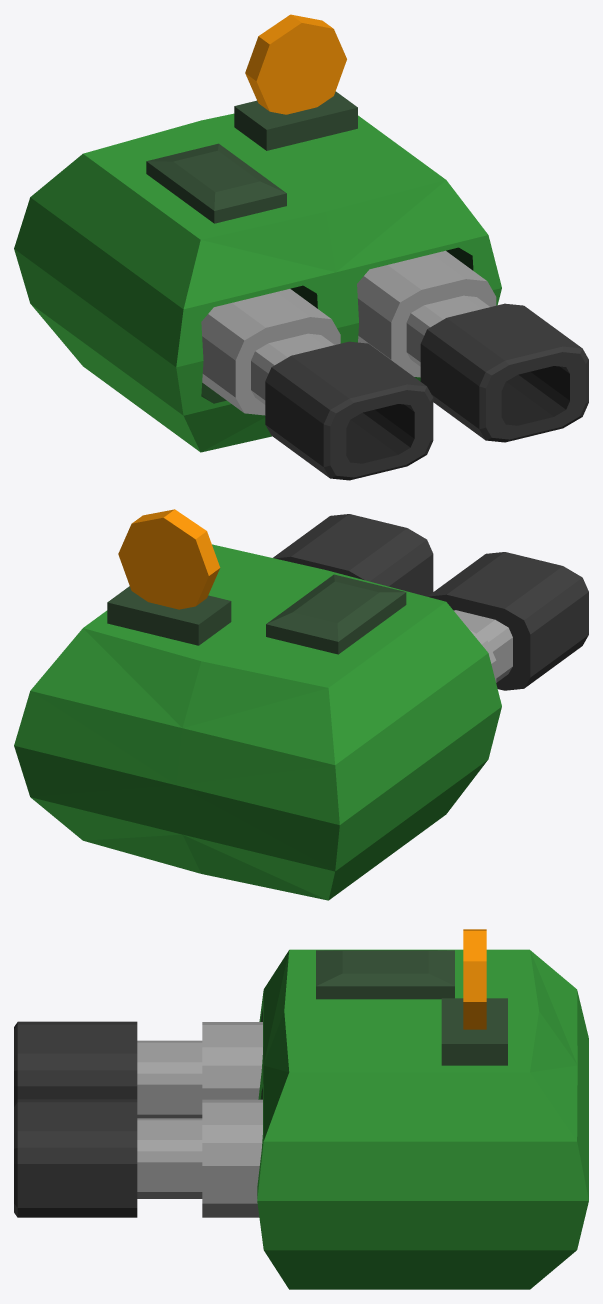
File: two_cannons.fbx
3 renders of one model, top to bottom at view 1: azimuth 30°, elevation 25°; view 2: azimuth 150°, elevation 25°; view 3: azimuth 270°, elevation 25°, orthographic. The views are drawn at different scales.
Visible parts, largest first — view 1: Cube, Cube.003, Cylinder, Cube.005; view 2: Cube, Cube.003, Cylinder, Cube.005; view 3: Cube, Cube.003, Cube.005, Cylinder.
Part boxes in pixels (left/top/right/bottom): Cube: left=14, top=113, right=501, bottom=452; Cube.003: left=201, top=250, right=588, bottom=480; Cylinder: left=234, top=14, right=357, bottom=150; Cube.005: left=146, top=143, right=286, bottom=223; Cube: left=14, top=544, right=501, bottom=900; Cube.003: left=273, top=514, right=588, bottom=690; Cylinder: left=107, top=509, right=231, bottom=645; Cube.005: left=266, top=574, right=406, bottom=654; Cube: left=257, top=949, right=588, bottom=1289; Cube.003: left=14, top=1021, right=262, bottom=1217; Cube.005: left=316, top=950, right=454, bottom=999; Cylinder: left=441, top=929, right=507, bottom=1065.
Size of the model in its own units: 94.08 by 88.84 by 141.
